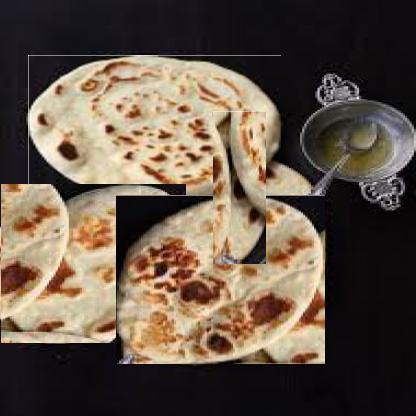naan: (28, 55, 281, 196), (115, 195, 325, 364), (0, 184, 186, 344), (188, 136, 291, 239)
